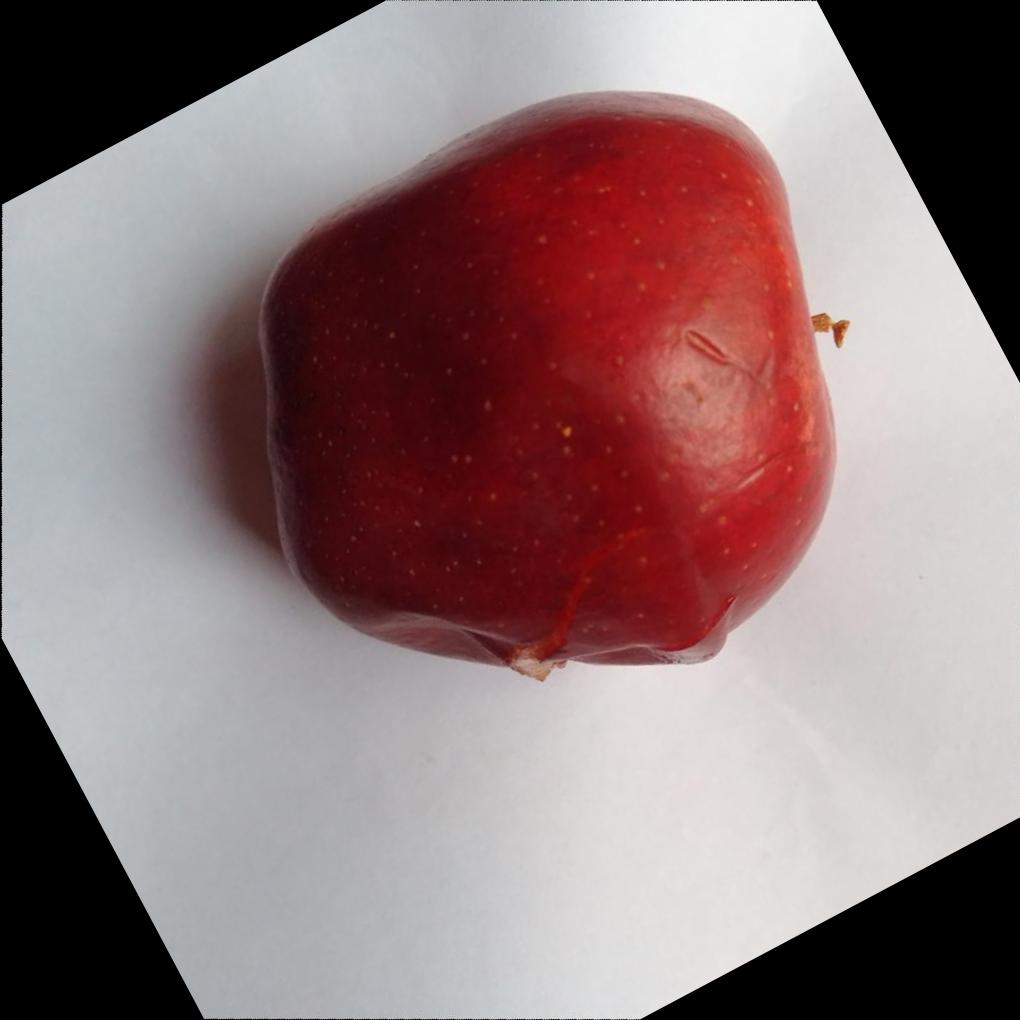FreshOrange: (254, 83, 836, 679)
